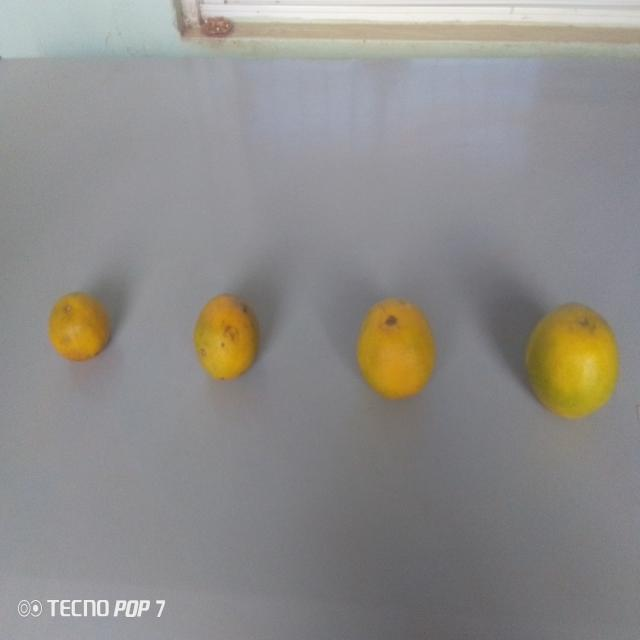Ripe orange: (522, 296, 624, 424), (350, 294, 444, 401), (191, 286, 265, 387), (44, 285, 119, 371)
